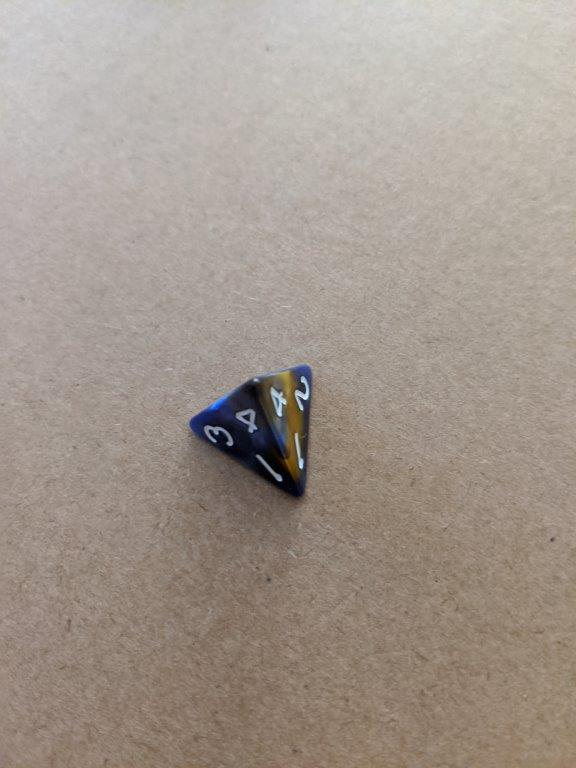d4-4: (185, 361, 318, 502)
